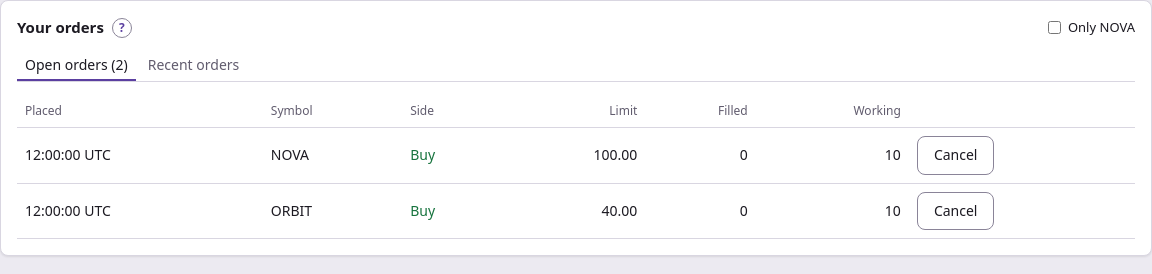
Test: OwnOrders › narrows both tabs to the instrument on screen
The image size is (1152, 274).
Click the checkbox labelled "Only NOVA" at {"x": 1054, "y": 28}, box [1048,21,1061,34]
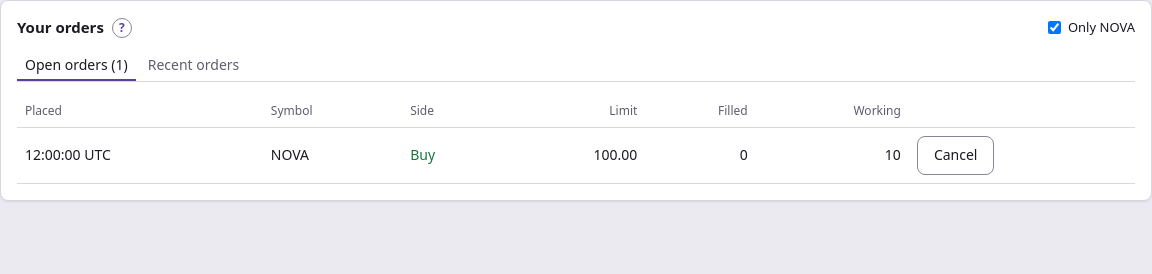
Expected: the tab "Open orders (1)" is shown, [17,51,136,81]
Click the tab "Recent orders" at {"x": 194, "y": 66}, box [140,51,247,81]
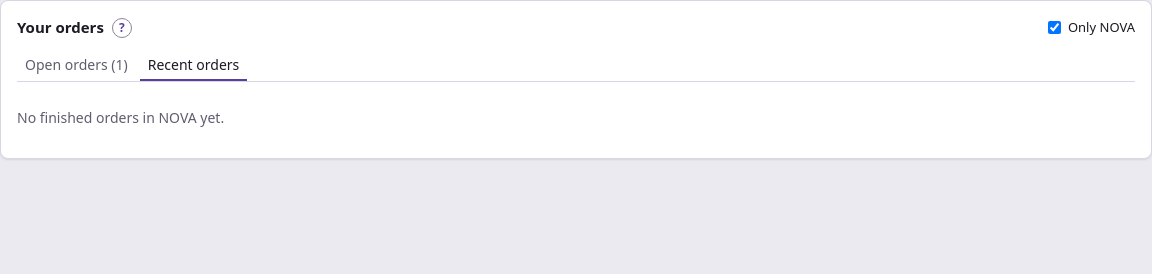
Expected: the text "No finished orders in NOVA yet." is shown, [17,108,224,127]
